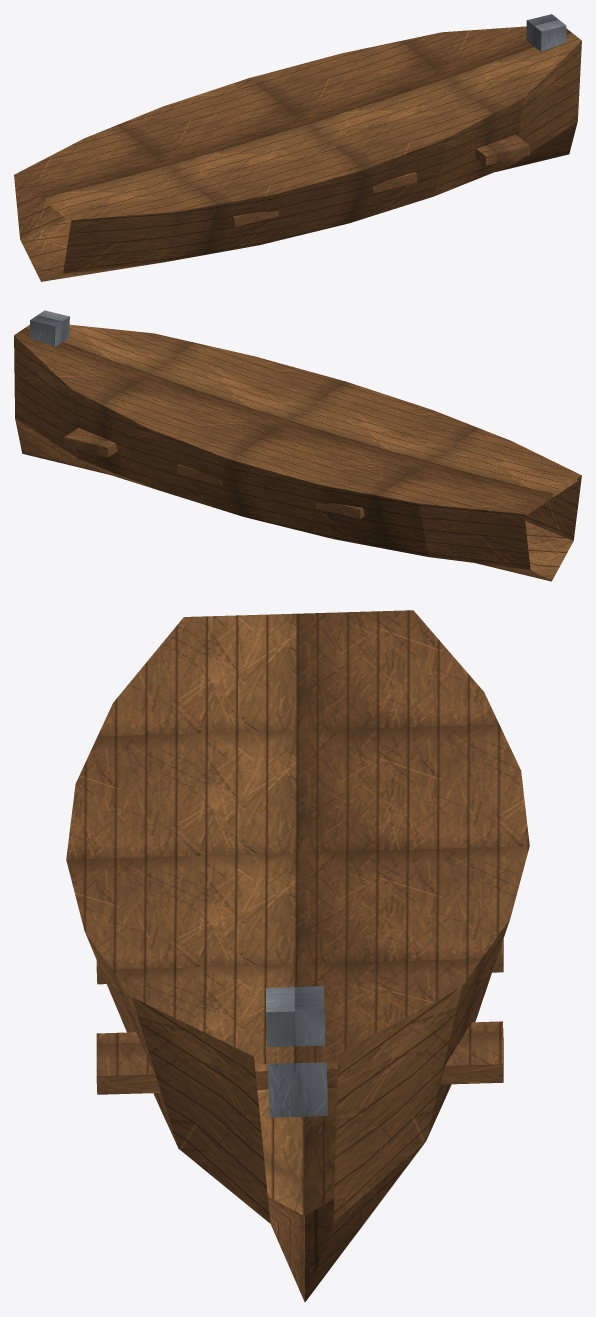
File: bote_remos.glb
3 views of the same model, one above another, from view 1: azimuth 30°, elevation 25°; view 2: azimuth 150°, elevation 25°; view 3: azimuth 270°, elevation 25° (orthographic). The views are drawn at different scales.
Visible parts, largest first — view 1: BoteRemos_casco; view 2: BoteRemos_casco; view 3: BoteRemos_casco.
Boxes of the visible parts, x1,y1,x2,y2 form: BoteRemos_casco: (14,14,581,281); BoteRemos_casco: (14,310,581,581); BoteRemos_casco: (66,610,529,1302).
Bounding box in the file's own units: 4.2 × 1.06 × 1.6.
Materials: 2 (2 with a texture image).
